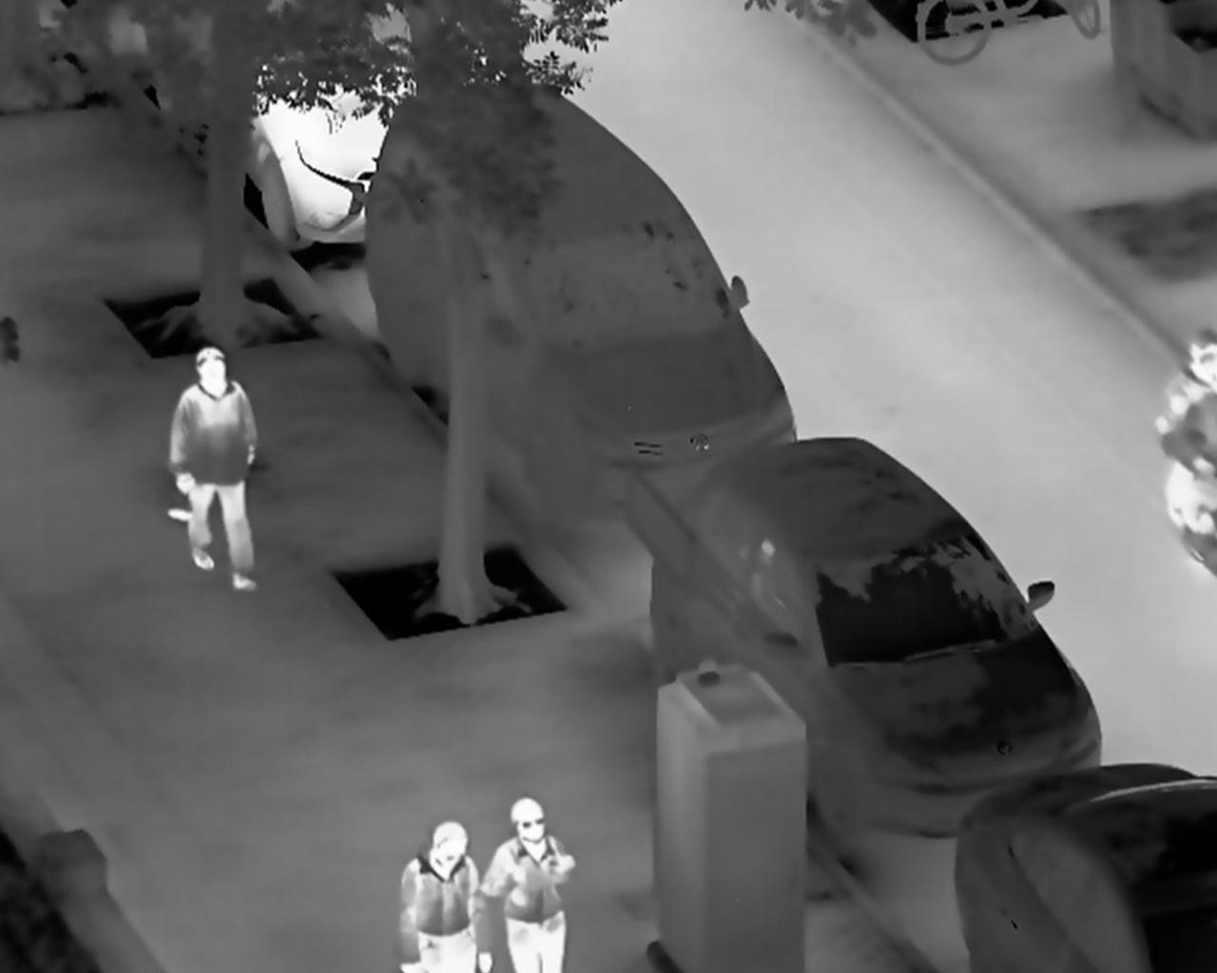person: (167, 348, 261, 598), (475, 795, 577, 973), (396, 818, 498, 973), (1152, 326, 1217, 551)
